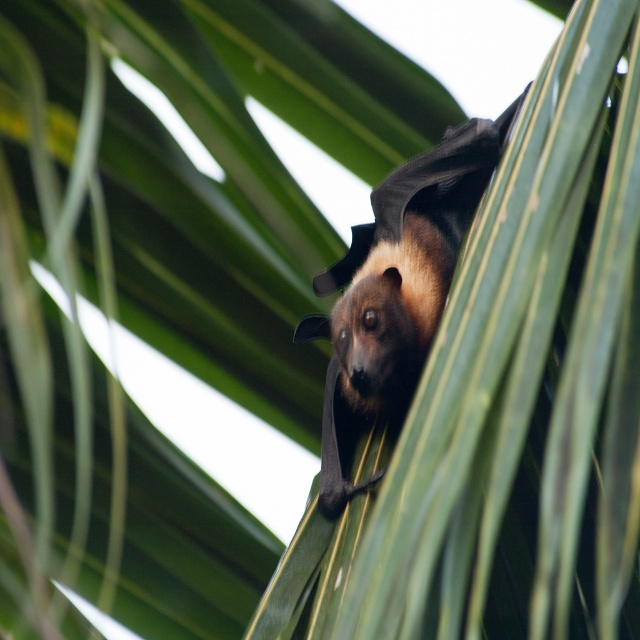Monkey: (292, 78, 534, 525)
